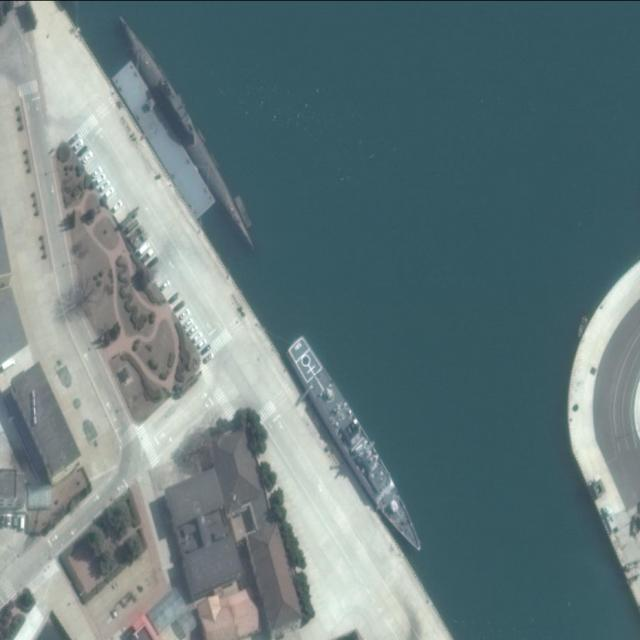Auxiliary Ships: (279, 334, 432, 557)
Submarine: (106, 6, 266, 261)
